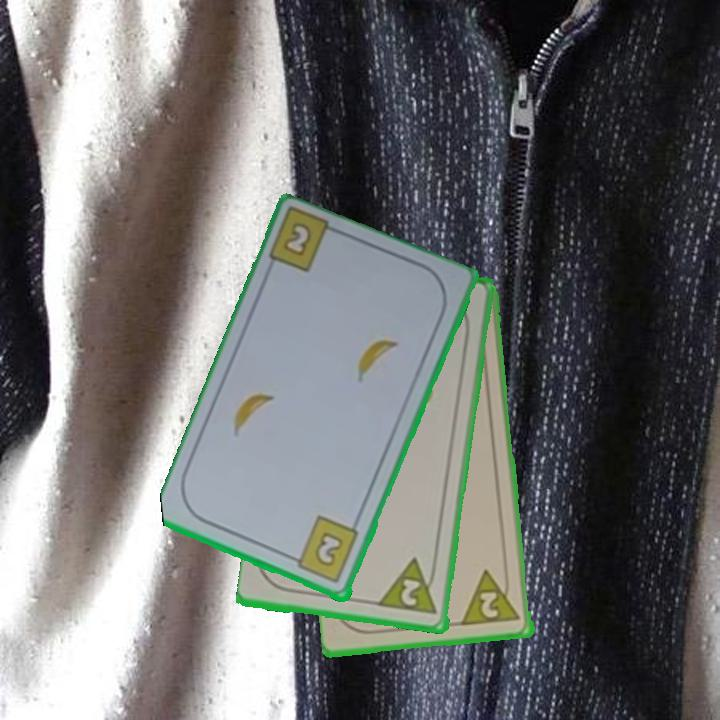2b: (286, 513, 362, 587), (279, 219, 315, 260)
2p: (460, 565, 524, 629), (377, 555, 441, 618)
